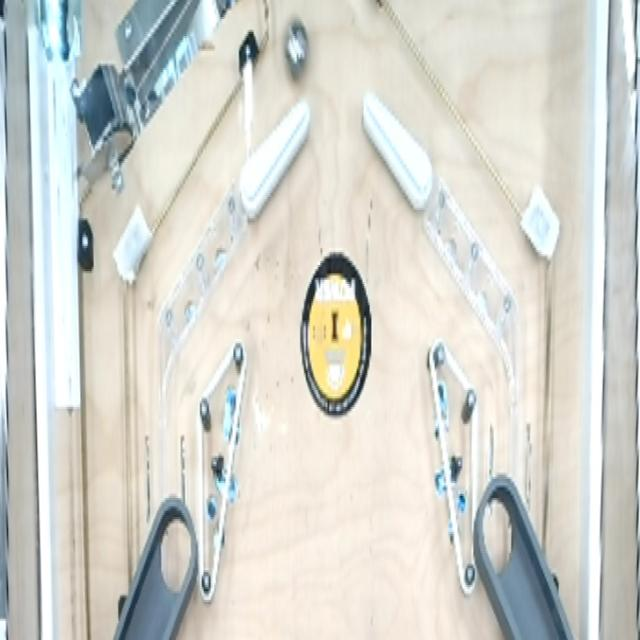ball: (283, 12, 312, 82)
flipper-left: (358, 84, 436, 216)
flipper-right: (234, 96, 314, 223)
